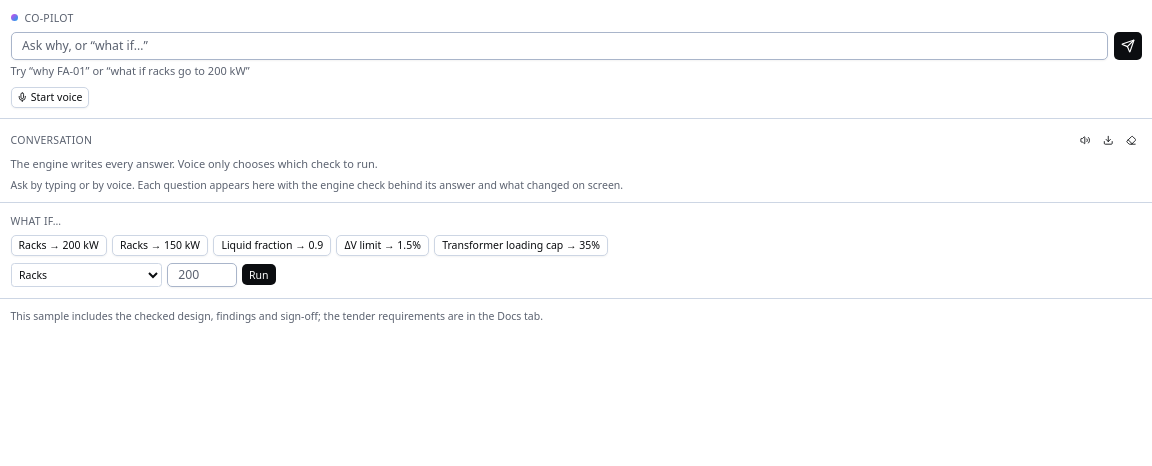
Test: D1: on the revision that fails, "why" answers there without switching or a prefix
In the field named "Ask the co-pilot": (559, 46) [10,32,1108,60], type "why R11 H-Z2"
Then press Enter
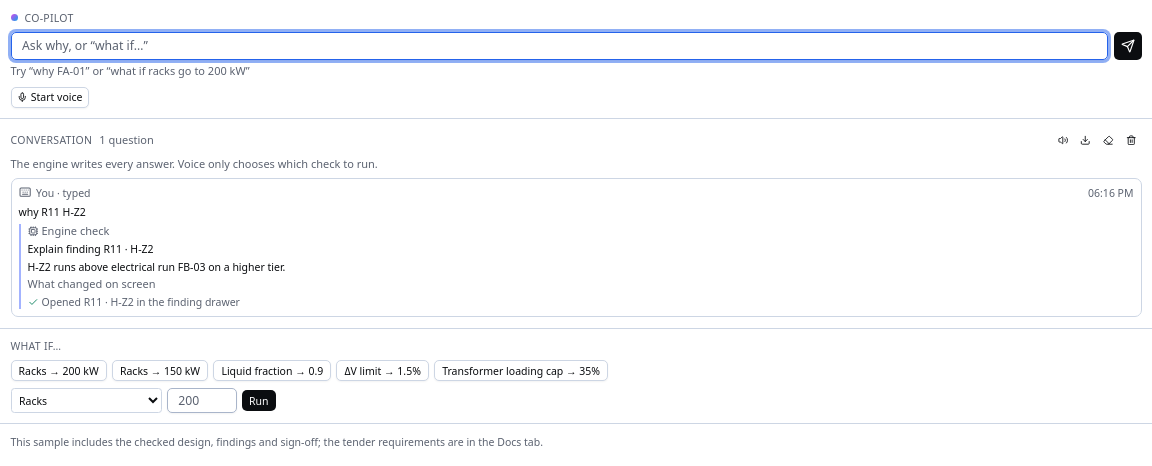
Now the text "H-Z2 runs above electrical run FB-03 on a higher tier." is shown, box [28,260,285,274]
